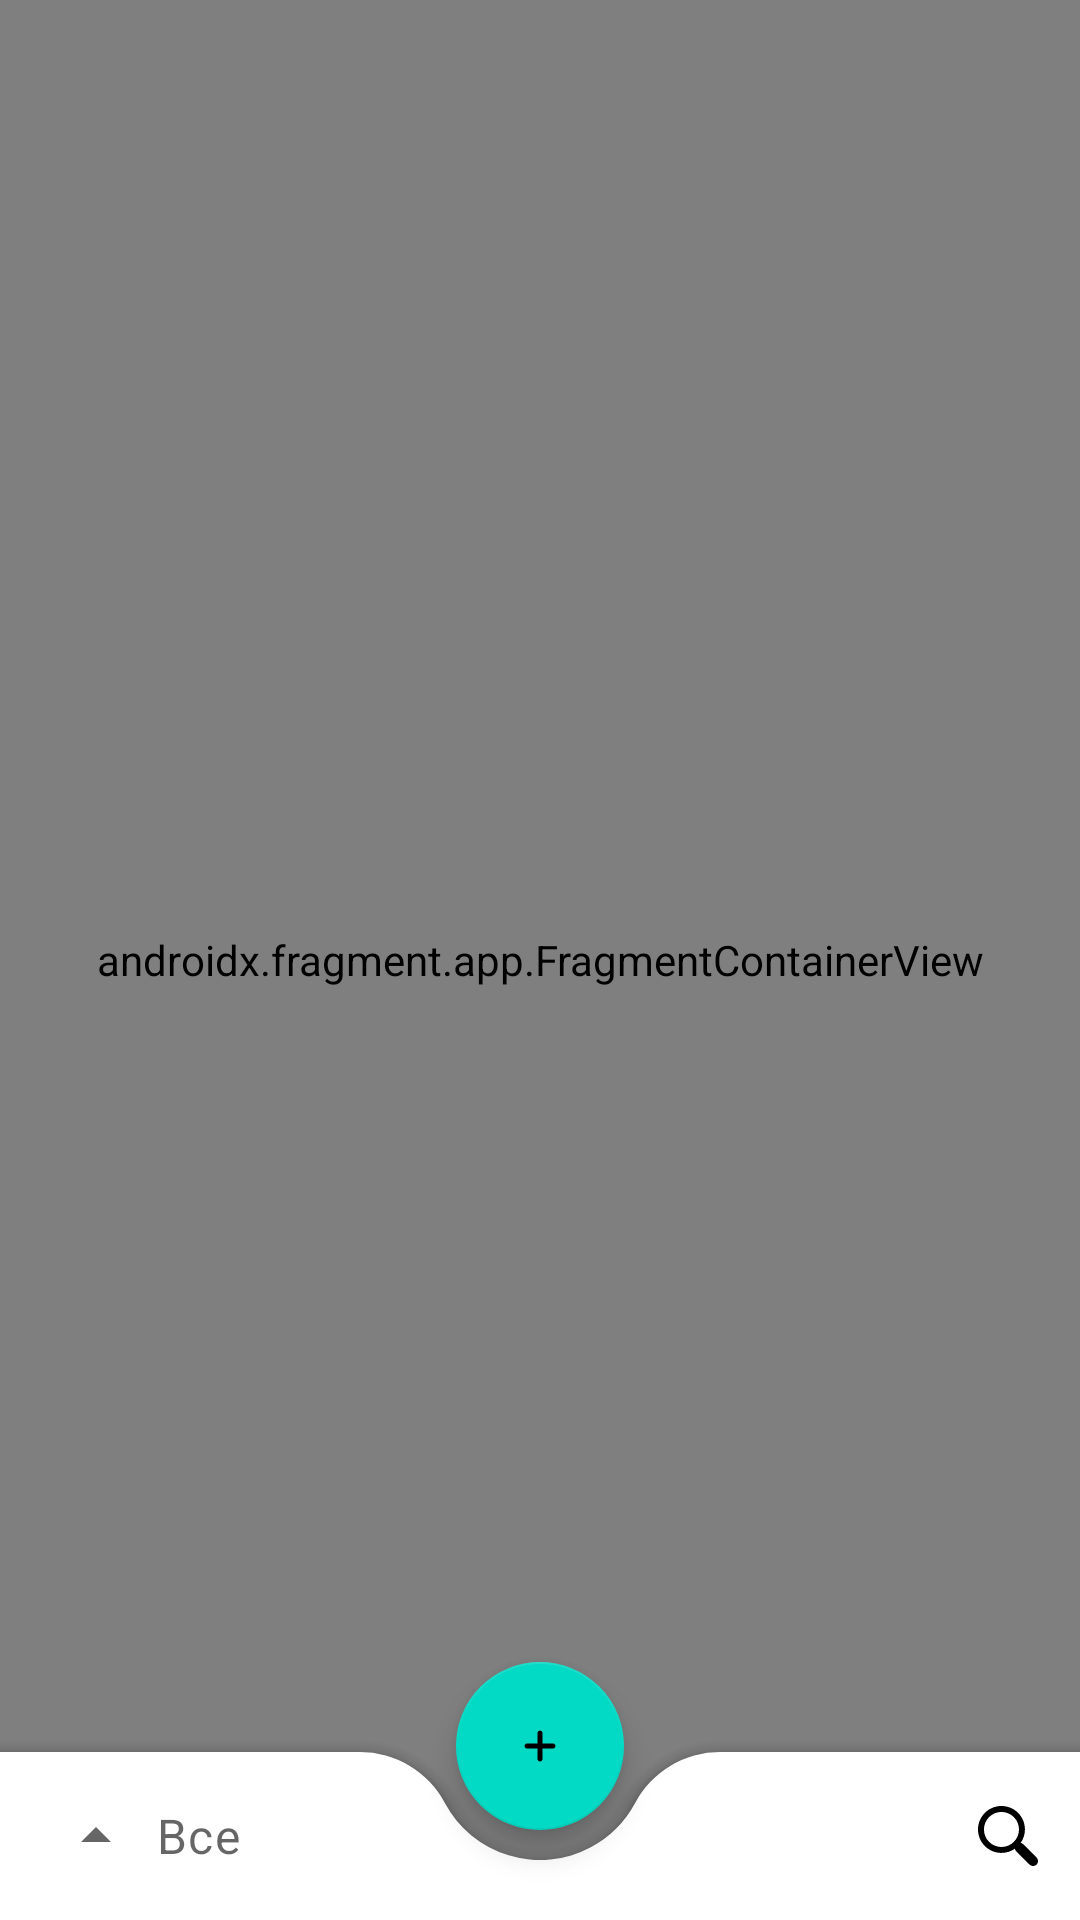

Icon bounding boxes for this 1080*1920 phone screenshot, format (x1, y1, x2, y2):
Добавить пароль: (456, 1662, 624, 1830)
Открыть или закрыть меню: (81, 1827, 111, 1842)
